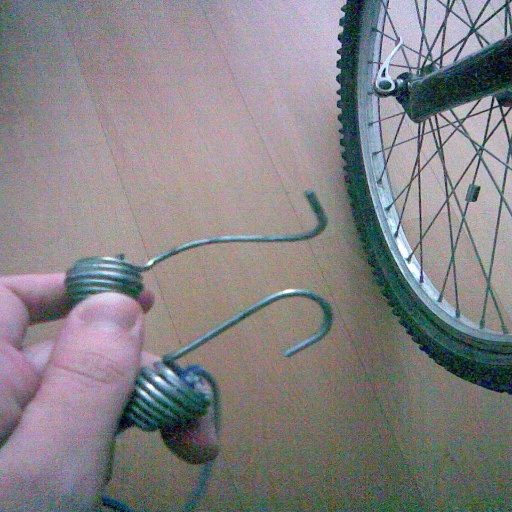hand: (2, 255, 164, 492)
